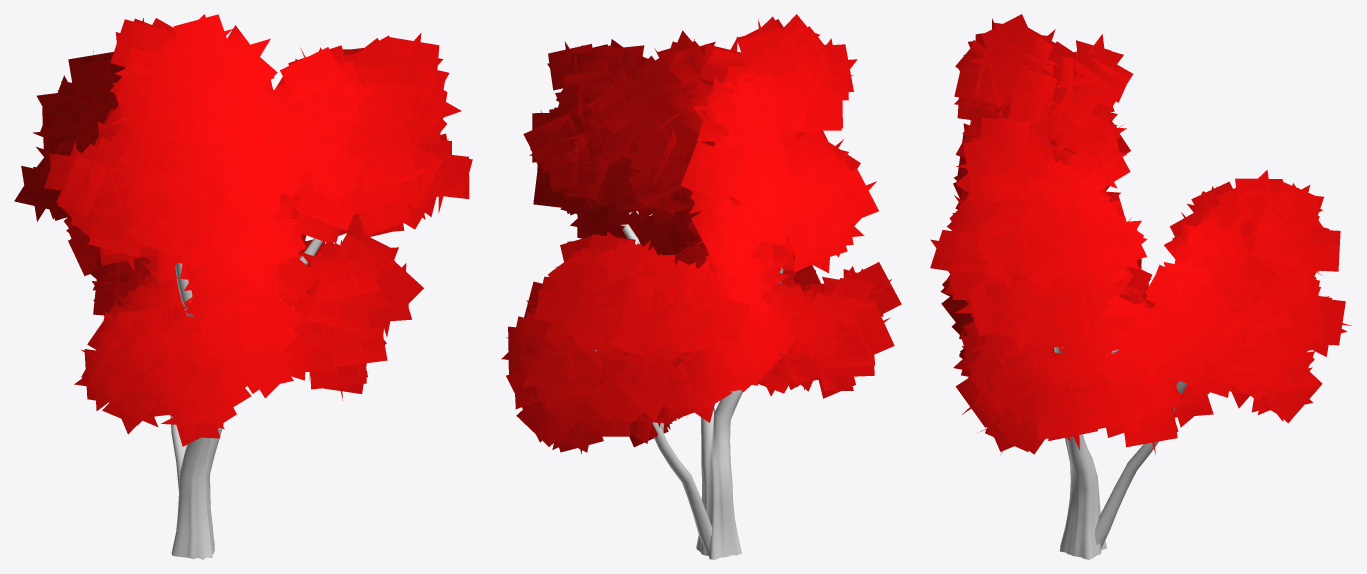
Rendered from SM_TreeTower_05.fbx.
3 renders of one model, left to right at view 1: azimuth 30°, elevation 25°; view 2: azimuth 150°, elevation 25°; view 3: azimuth 270°, elevation 25°, orthographic. The views are drawn at different scales.
Parts seen in each view (by area): view 1: SM_TreeTower_05_LOD0; view 2: SM_TreeTower_05_LOD0; view 3: SM_TreeTower_05_LOD0.
Part boxes in pixels (<box>): SM_TreeTower_05_LOD0: <box>14,14,472,559</box>; SM_TreeTower_05_LOD0: <box>501,14,901,559</box>; SM_TreeTower_05_LOD0: <box>930,14,1351,559</box>.
Size of what is drawn, in the model's own units: 11.61 by 15.89 by 11.87.
